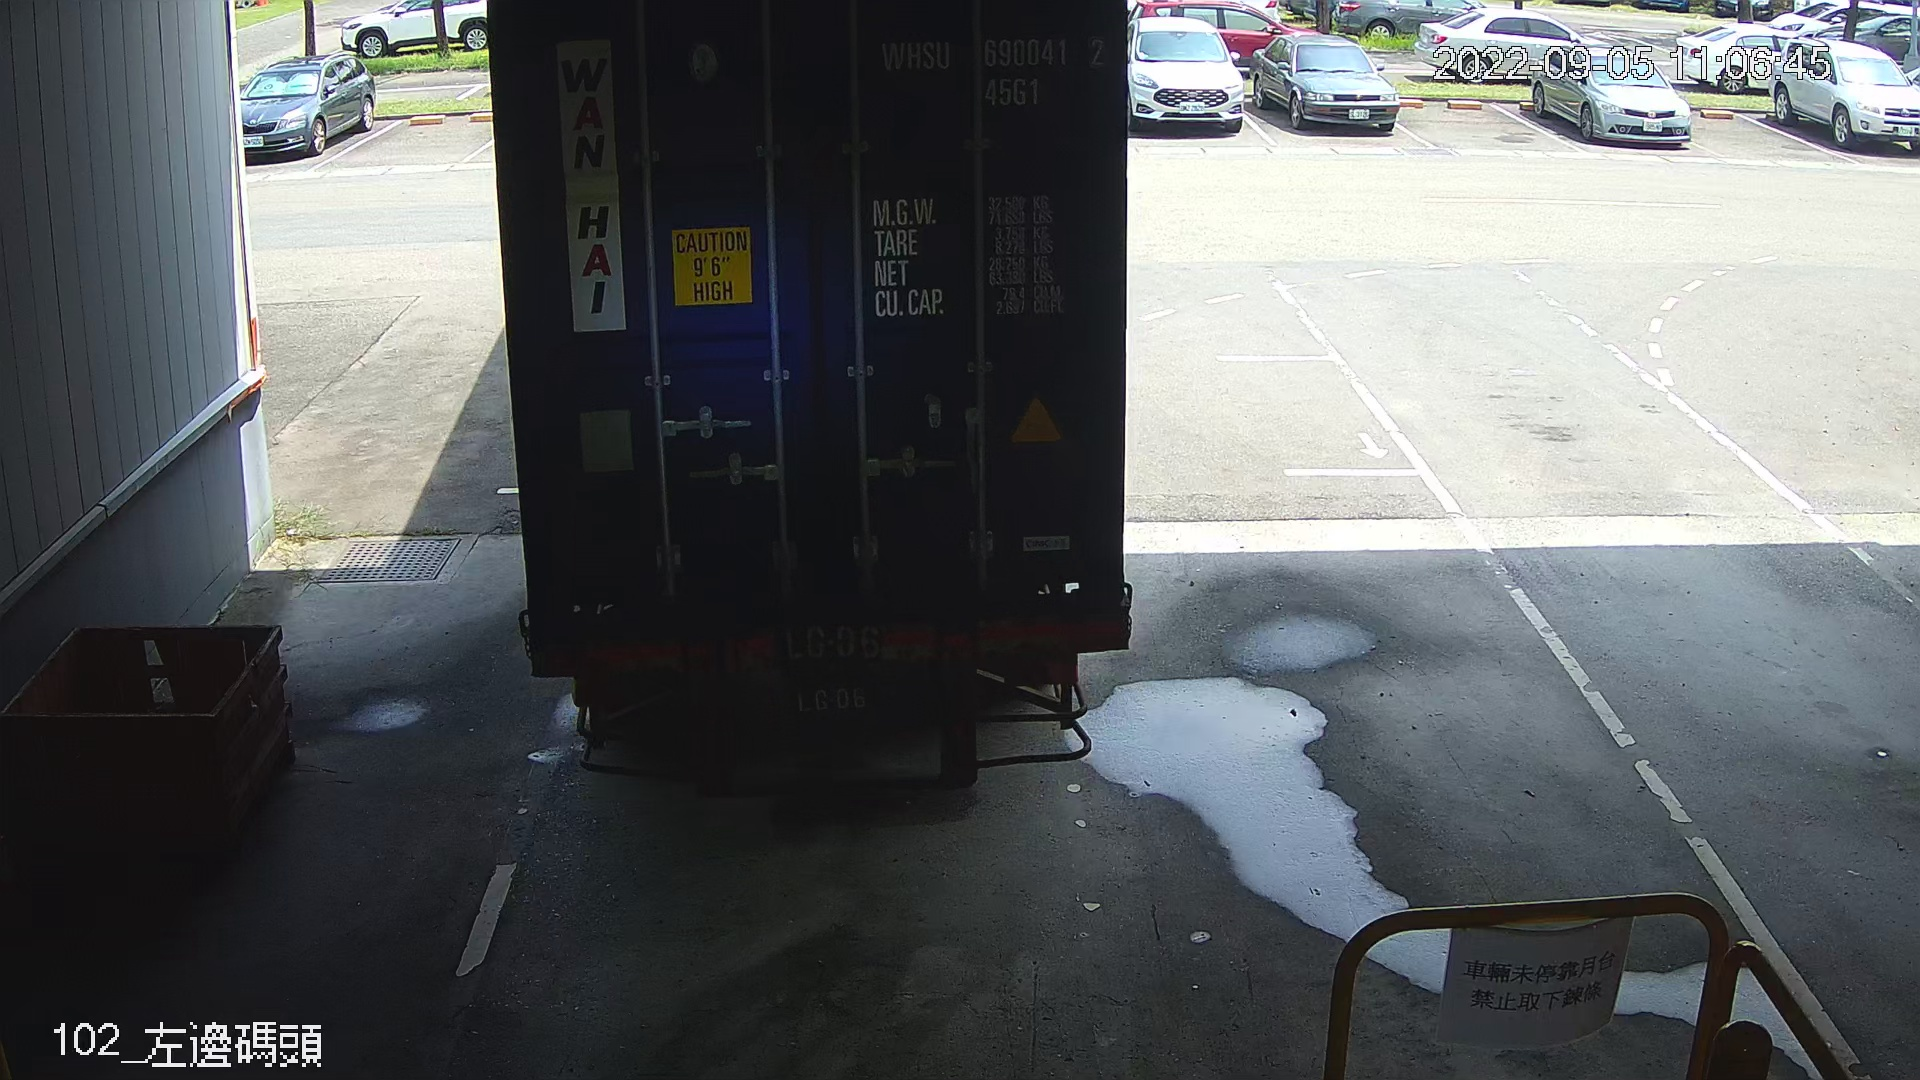container: (870, 22, 1114, 117)
